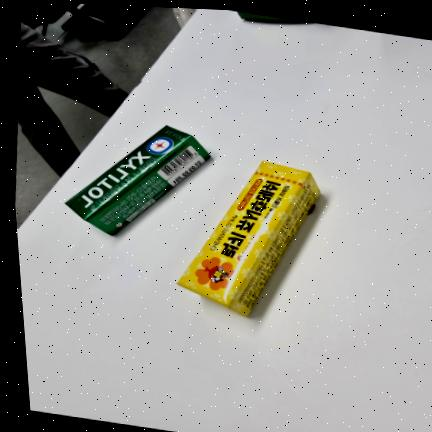gum_green: (66, 126, 210, 235)
gum_yellow: (178, 161, 320, 316)
